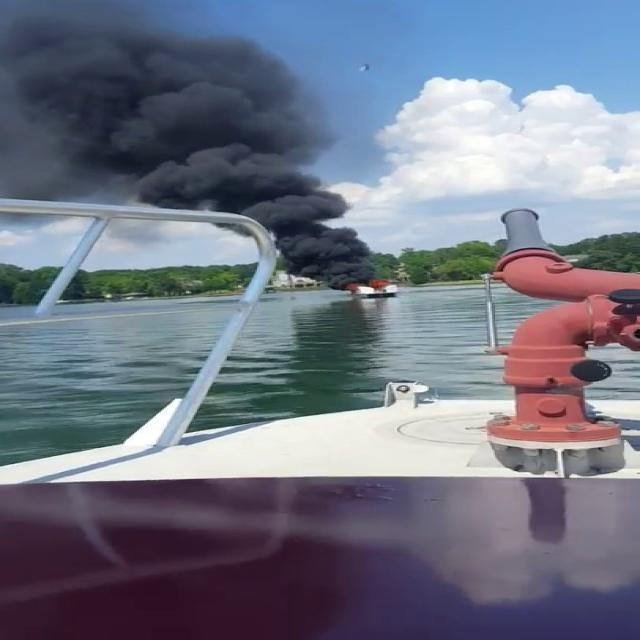Smoke: (0, 1, 375, 272), (156, 476, 631, 639)
